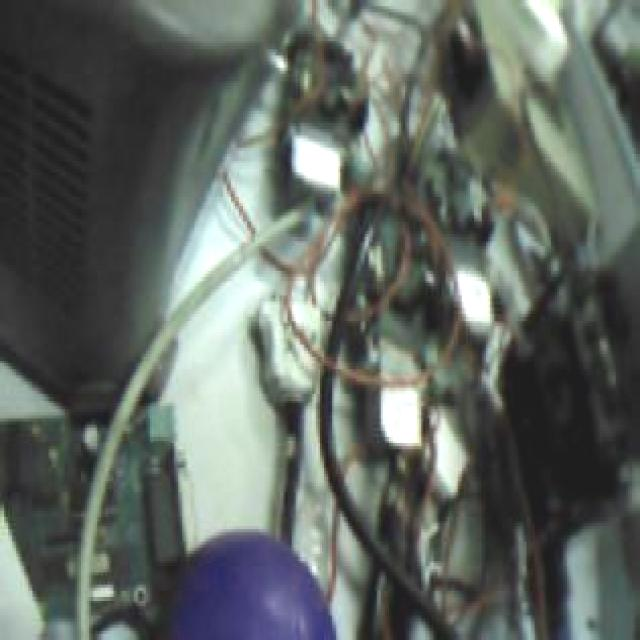BallPurple: (167, 527, 336, 640)
